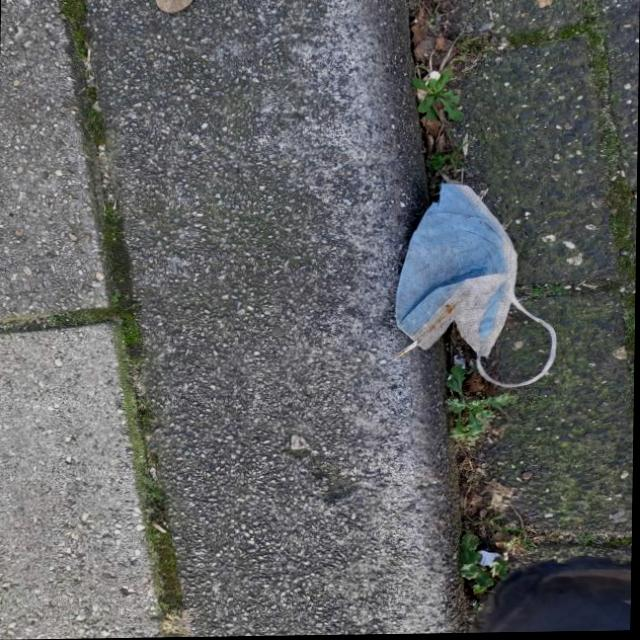Mask: (392, 173, 563, 392)
